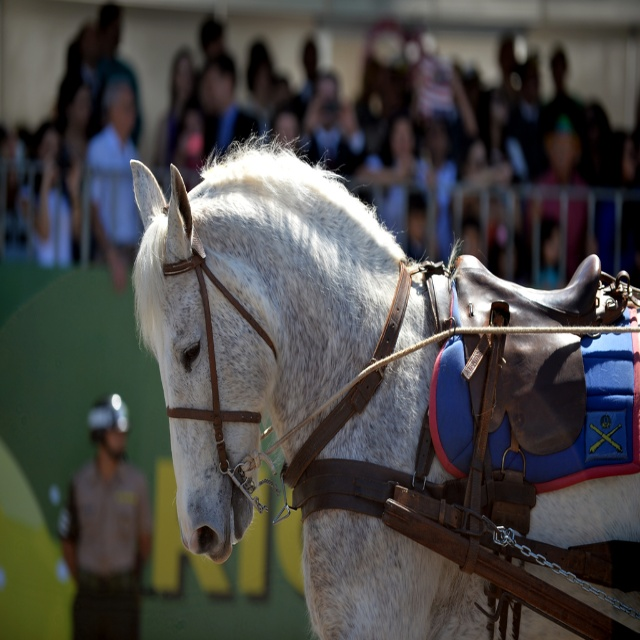Horse: (130, 126, 640, 640)
